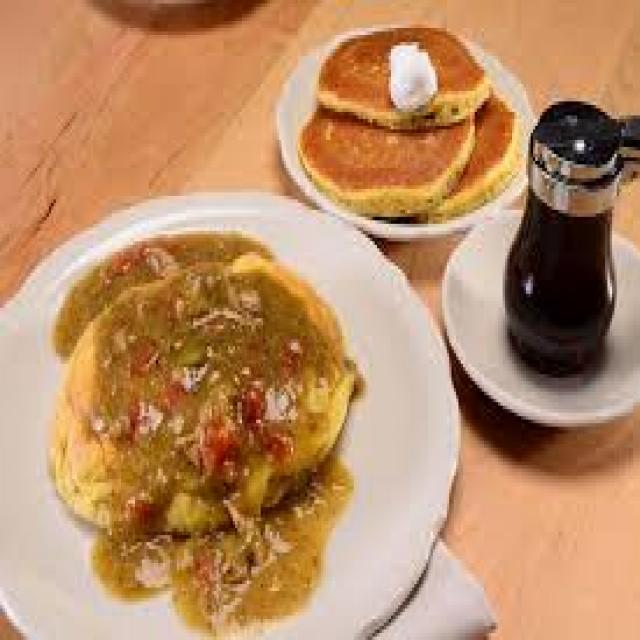Omelette: (49, 238, 363, 532)
Pancakes: (294, 21, 522, 213)
